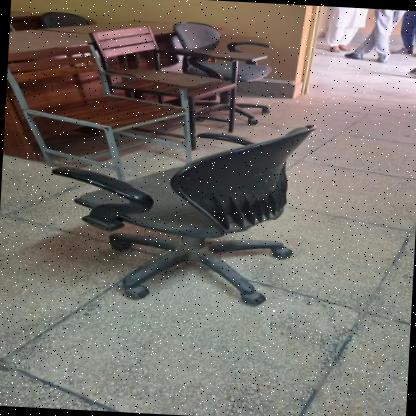chair: (38, 105, 323, 322), (1, 35, 184, 186)
